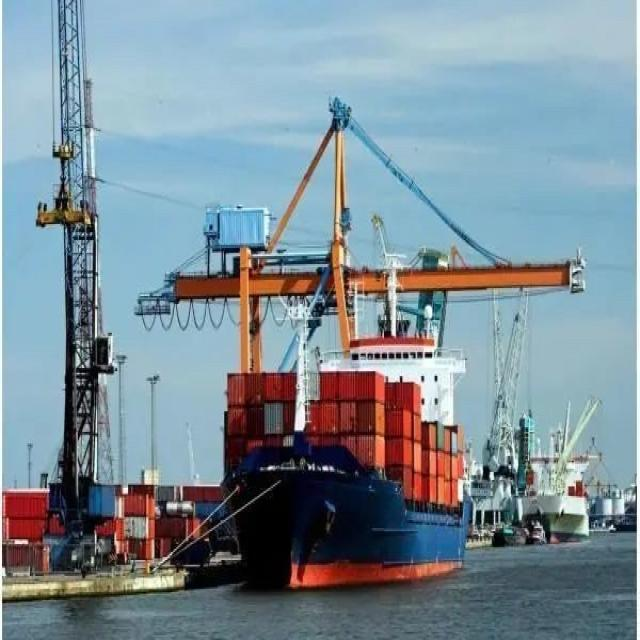cargoship: (223, 298, 470, 592)
